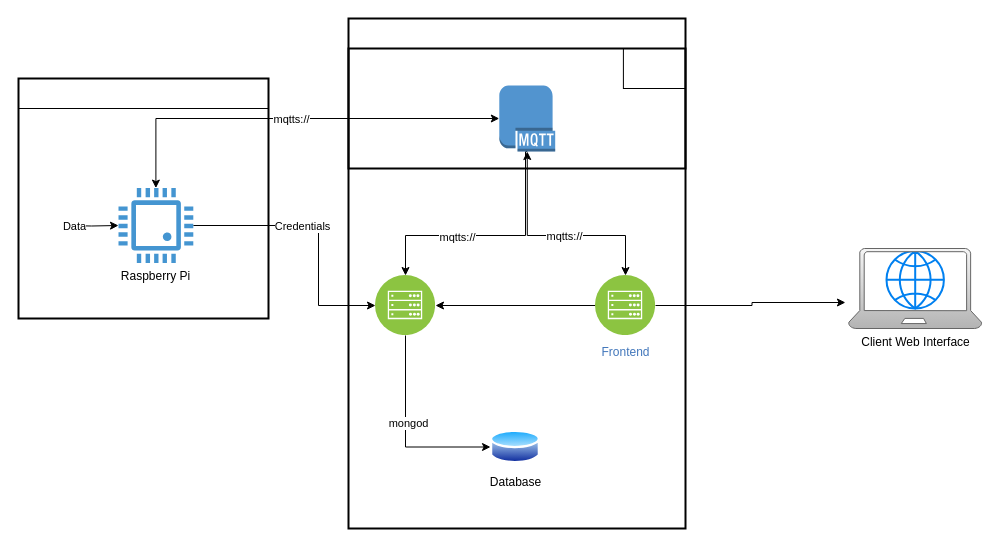
The diagram is 999 pixels wide and 546 high, and some of its shapes have lost their labels. Here are the shapes that lost their labels. From the top down, the centre of each, then its label:
point 654,68: IoT hub
point 405,305: Backend
